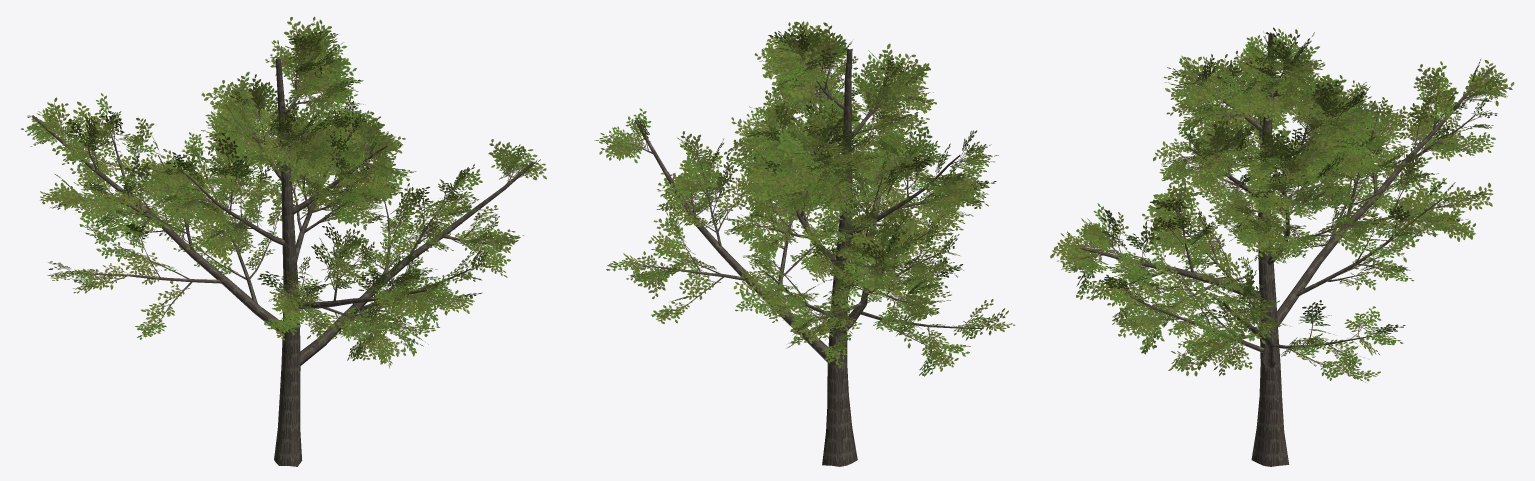
File: dub_stary.glb
3 renders of one model, left to right at view 1: azimuth 30°, elevation 25°; view 2: azimuth 150°, elevation 25°; view 3: azimuth 270°, elevation 25°, orthographic. The views are drawn at different scales.
Visible parts, largest first — view 1: dub_stary; view 2: dub_stary; view 3: dub_stary.
Part boxes in pixels (box(x1,y1,x2,y2)): dub_stary: box(21, 16, 546, 466); dub_stary: box(594, 21, 1015, 466); dub_stary: box(1050, 27, 1514, 466).
Bounding box in the file's own units: 20.76 × 18.25 × 17.59.
Materials: 2 (2 with a texture image).
